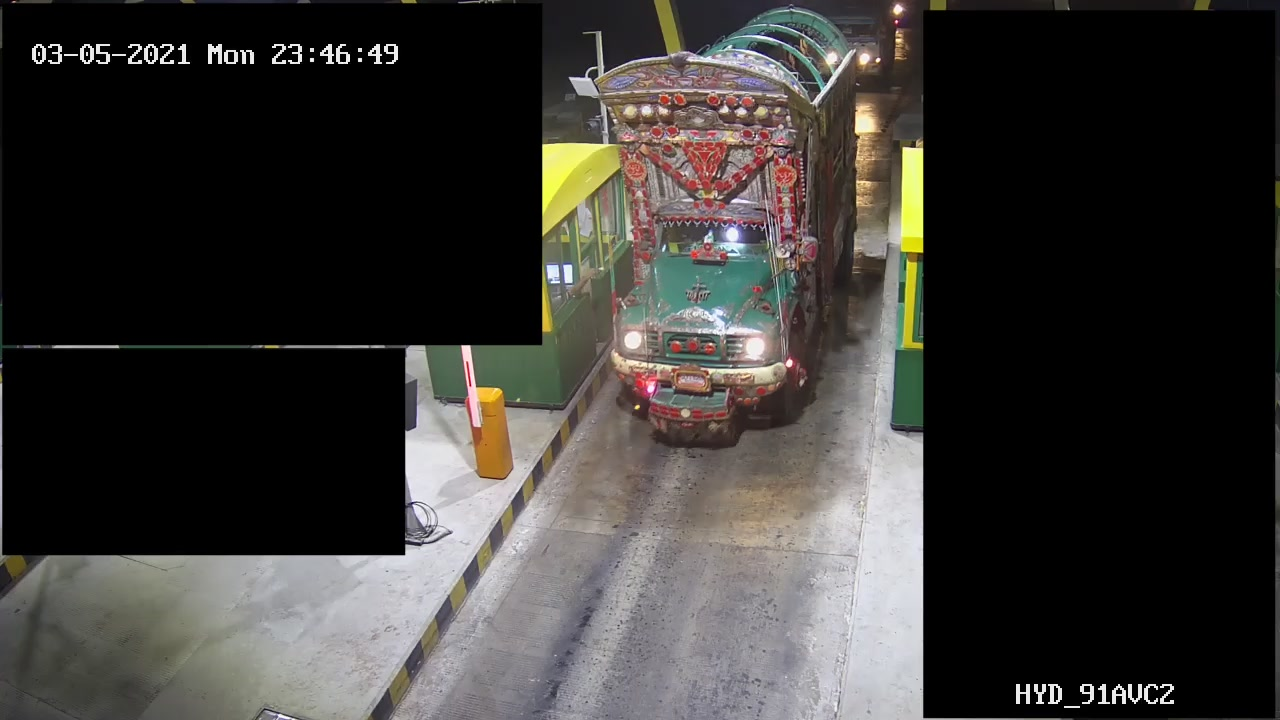F5: (589, 7, 873, 467)
